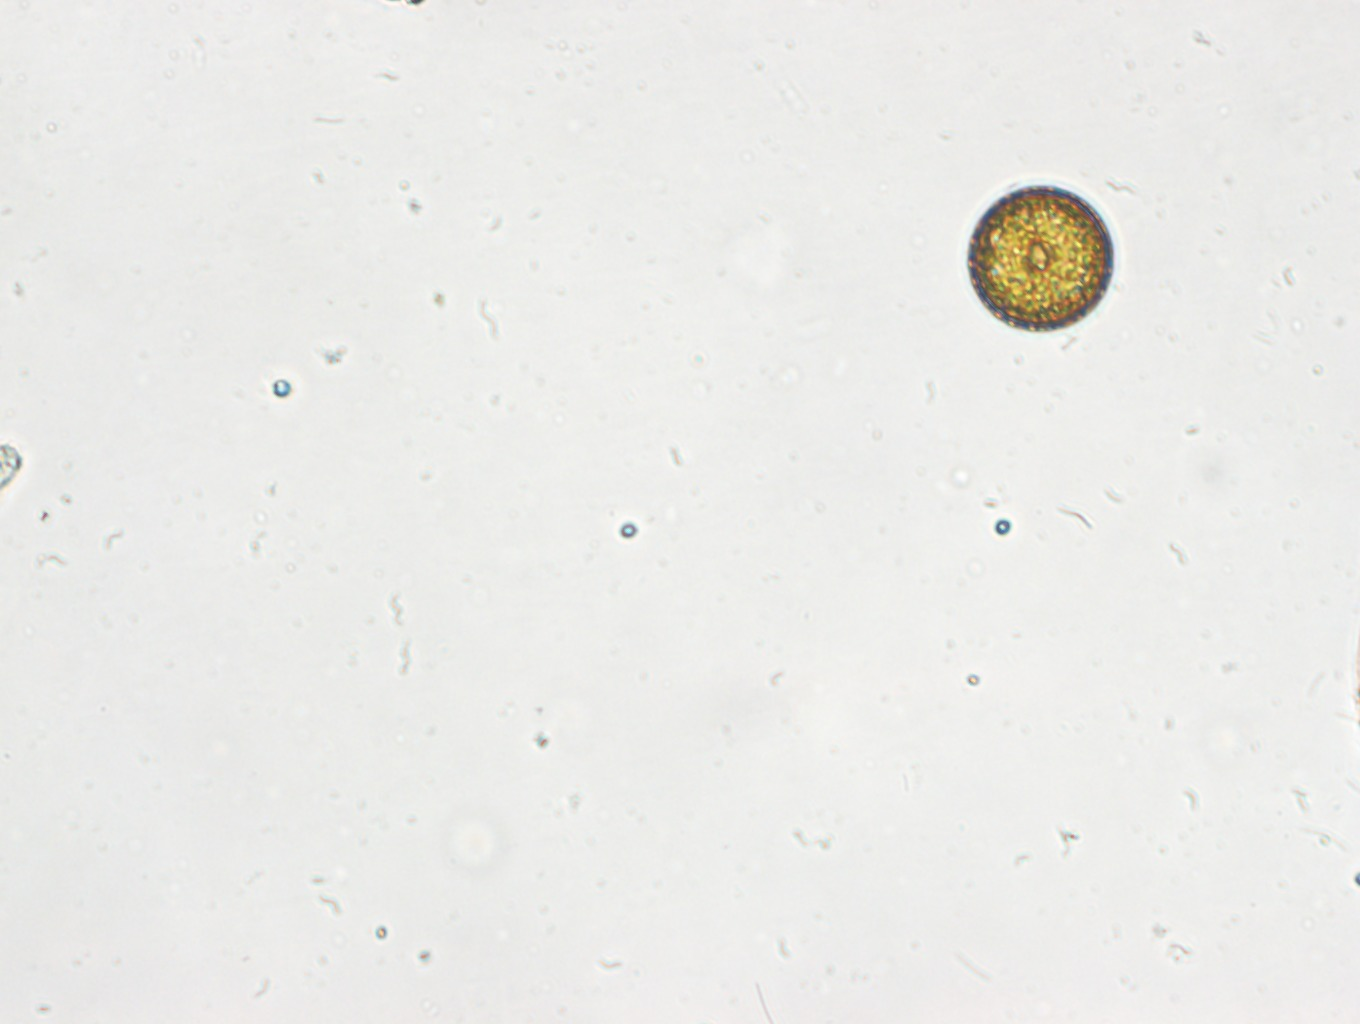coscinodiscus: (961, 179, 1123, 339)
